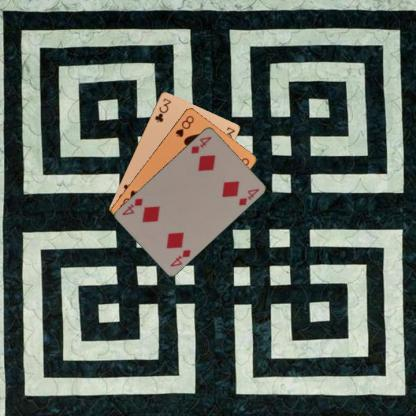3c: (152, 95, 172, 124)
4d: (167, 245, 192, 268), (188, 133, 214, 155)
8s: (173, 113, 195, 138)
